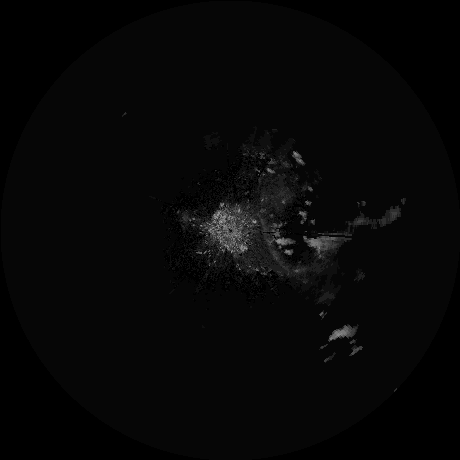frontgust: (261, 212, 282, 266)
